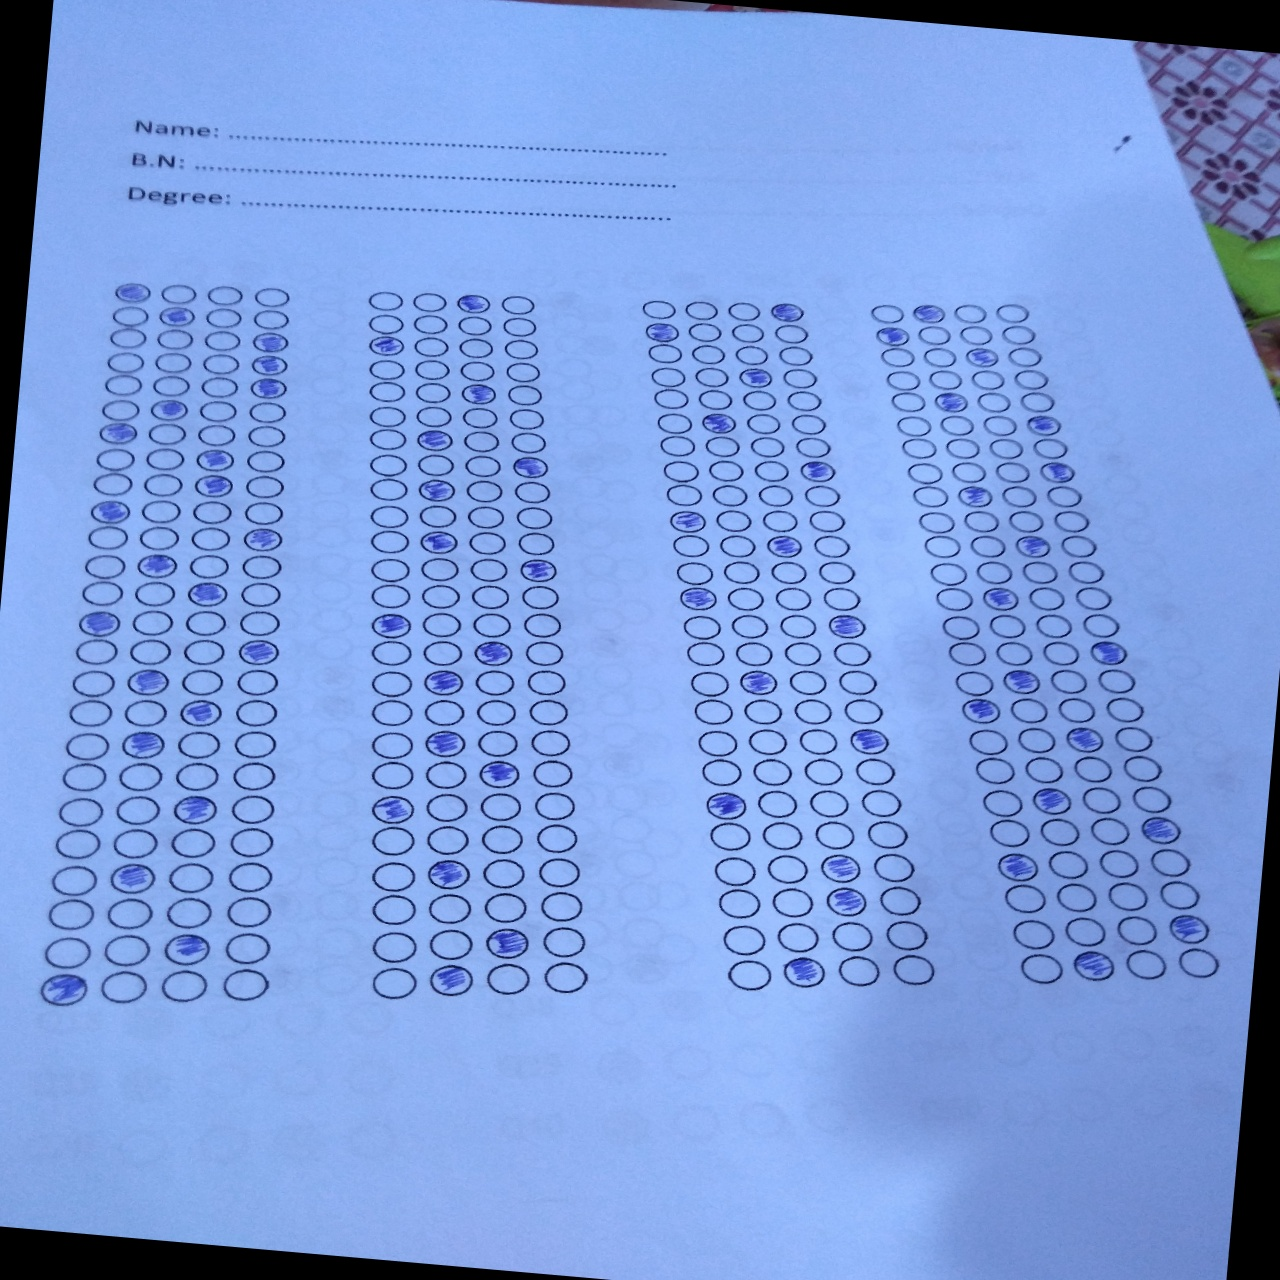not-c: (101, 930, 152, 971), (1122, 946, 1175, 986), (1062, 910, 1114, 949), (1009, 915, 1062, 954), (1114, 911, 1166, 949), (1012, 949, 1064, 988), (219, 965, 268, 1006), (47, 896, 97, 935), (999, 881, 1051, 919), (43, 930, 91, 971), (98, 965, 147, 1006), (166, 858, 215, 899), (1171, 948, 1223, 986), (159, 965, 207, 1005), (542, 959, 591, 996), (870, 847, 919, 885), (114, 758, 164, 795), (49, 862, 100, 898), (368, 822, 418, 858), (890, 951, 939, 987), (539, 888, 588, 925), (483, 888, 532, 925), (369, 891, 418, 927), (427, 925, 476, 961), (767, 884, 816, 920), (763, 852, 812, 888), (709, 852, 758, 888), (720, 920, 769, 956), (806, 785, 856, 822), (852, 754, 901, 790), (714, 887, 764, 922), (229, 790, 275, 828), (169, 823, 217, 859), (427, 890, 475, 926), (485, 959, 533, 995), (481, 855, 529, 891), (477, 821, 525, 857), (372, 859, 420, 896), (370, 928, 418, 965), (370, 965, 418, 1001), (835, 953, 883, 989), (772, 917, 821, 953), (830, 920, 878, 956), (813, 813, 862, 850), (532, 819, 581, 855), (533, 853, 583, 888), (539, 924, 588, 959), (883, 915, 932, 951), (855, 785, 904, 821), (115, 791, 162, 828), (224, 930, 271, 966), (107, 896, 154, 932), (55, 824, 102, 860), (57, 794, 104, 830), (226, 860, 274, 896), (423, 821, 471, 856), (726, 956, 774, 992), (865, 818, 913, 853), (874, 883, 922, 918), (227, 891, 273, 927), (230, 824, 275, 860), (166, 894, 213, 930), (110, 828, 157, 863), (183, 607, 231, 641), (123, 695, 170, 729), (236, 606, 284, 639), (67, 697, 115, 730), (231, 758, 275, 794), (173, 758, 218, 794), (179, 665, 224, 700), (73, 634, 118, 668), (59, 760, 105, 792), (64, 730, 111, 763), (178, 635, 223, 669), (994, 636, 1039, 670), (475, 727, 520, 760), (129, 607, 178, 638), (176, 729, 222, 762), (985, 610, 1030, 642), (474, 697, 518, 730), (531, 788, 576, 821), (231, 727, 275, 760), (367, 636, 411, 669), (72, 665, 116, 697), (836, 665, 880, 697), (798, 726, 843, 758), (1055, 693, 1099, 726), (1099, 692, 1144, 724), (1040, 638, 1084, 670), (1034, 611, 1078, 644), (238, 578, 284, 610), (740, 697, 785, 729), (747, 727, 792, 758), (418, 610, 464, 641), (128, 636, 173, 668), (985, 817, 1030, 849), (842, 695, 887, 727), (1006, 695, 1051, 727), (696, 727, 740, 760), (778, 611, 822, 644), (1044, 847, 1088, 880), (1070, 754, 1114, 787), (523, 667, 567, 699), (527, 728, 572, 760), (742, 728, 787, 760), (733, 639, 777, 670), (726, 611, 770, 642), (707, 821, 751, 852), (687, 668, 731, 700), (422, 757, 467, 789), (422, 697, 467, 729), (758, 819, 803, 851), (749, 755, 794, 787), (421, 636, 465, 668), (962, 726, 1007, 757), (799, 755, 844, 787), (855, 756, 899, 788), (979, 785, 1023, 817), (972, 753, 1016, 784), (1156, 878, 1200, 910), (1055, 880, 1099, 912), (1039, 816, 1083, 847), (1020, 755, 1064, 787), (1014, 722, 1058, 754), (949, 666, 994, 697), (942, 638, 987, 669), (932, 583, 976, 614), (926, 556, 971, 587), (1046, 666, 1090, 697), (1080, 783, 1124, 815), (1060, 554, 1104, 586), (817, 581, 862, 613), (817, 554, 862, 586), (1024, 584, 1069, 615), (467, 610, 515, 639), (1107, 880, 1152, 911), (532, 758, 576, 790), (525, 696, 568, 728), (685, 640, 728, 672), (771, 583, 815, 614), (757, 789, 801, 821), (233, 697, 277, 729), (234, 666, 278, 697), (369, 760, 413, 791), (369, 726, 413, 757), (937, 612, 980, 644), (1092, 663, 1136, 695), (1148, 845, 1191, 877), (1077, 608, 1121, 640), (472, 668, 517, 699), (791, 696, 836, 727), (1096, 847, 1141, 878), (1085, 813, 1130, 844), (1130, 784, 1175, 815), (1122, 753, 1166, 783), (1070, 581, 1115, 612), (134, 576, 175, 608), (467, 581, 510, 612), (696, 757, 740, 788), (692, 695, 735, 726), (423, 791, 467, 822), (481, 791, 524, 822), (418, 581, 462, 612), (369, 697, 413, 728), (369, 669, 413, 700), (831, 635, 874, 666), (1112, 723, 1156, 754), (418, 556, 463, 585), (965, 530, 1008, 559), (1060, 529, 1099, 560), (101, 372, 145, 400), (141, 471, 185, 499), (913, 511, 954, 542), (190, 524, 232, 553), (411, 333, 455, 361), (367, 401, 410, 429), (188, 552, 231, 580), (144, 421, 188, 449), (147, 374, 190, 402), (82, 579, 125, 607), (83, 552, 127, 580), (1017, 556, 1057, 586), (1032, 433, 1071, 463), (1046, 482, 1085, 512), (1053, 508, 1092, 538), (522, 639, 563, 668), (520, 610, 561, 639), (413, 403, 457, 430), (367, 527, 411, 554), (367, 503, 411, 530), (251, 281, 293, 309), (204, 281, 246, 309), (243, 447, 285, 475), (241, 553, 284, 581), (366, 356, 408, 384), (411, 379, 454, 407), (369, 554, 411, 583), (365, 380, 407, 408), (86, 523, 128, 551), (105, 325, 148, 353), (680, 613, 722, 641), (411, 358, 455, 384), (368, 476, 411, 503), (93, 470, 136, 497), (95, 444, 138, 471), (105, 349, 149, 376), (137, 498, 181, 525), (787, 667, 826, 696), (782, 639, 822, 668), (973, 554, 1013, 584), (726, 295, 767, 324), (155, 324, 196, 352), (158, 280, 199, 308), (468, 556, 509, 584), (408, 312, 452, 338), (241, 474, 284, 501), (246, 400, 288, 427), (640, 293, 682, 320), (108, 302, 150, 329), (407, 287, 449, 314), (365, 286, 407, 313), (197, 374, 239, 401), (372, 583, 414, 610), (369, 452, 411, 479), (145, 445, 188, 472), (1007, 508, 1046, 537), (192, 498, 232, 526), (893, 411, 933, 440), (367, 424, 410, 450), (137, 526, 181, 552), (200, 352, 241, 379), (241, 501, 282, 527), (243, 422, 284, 449), (366, 309, 407, 336), (501, 290, 542, 316), (200, 327, 241, 354), (202, 306, 243, 333), (649, 384, 690, 411), (806, 508, 847, 535), (799, 481, 840, 508), (937, 410, 978, 437), (415, 452, 457, 478), (97, 396, 139, 422), (646, 340, 686, 367), (459, 358, 499, 384), (994, 457, 1034, 484), (949, 459, 989, 486), (1012, 365, 1051, 392), (518, 584, 559, 610), (508, 406, 549, 431), (464, 478, 505, 504), (647, 365, 688, 390), (468, 529, 509, 554), (663, 482, 704, 508), (690, 365, 731, 390), (751, 457, 792, 483), (701, 434, 742, 459), (783, 389, 824, 415), (777, 343, 818, 369), (976, 390, 1017, 416), (998, 483, 1039, 509), (1017, 387, 1058, 413), (998, 320, 1039, 346), (415, 504, 456, 530), (154, 350, 192, 377), (511, 481, 551, 506), (701, 434, 741, 459), (694, 386, 734, 411), (670, 532, 710, 558), (748, 434, 788, 459), (726, 585, 765, 611), (717, 533, 757, 559), (714, 509, 754, 535), (707, 483, 747, 509), (706, 458, 745, 484), (782, 365, 822, 390), (910, 483, 949, 509), (904, 458, 944, 484), (898, 434, 938, 459), (883, 369, 922, 395), (979, 413, 1019, 438), (987, 435, 1027, 461), (993, 300, 1033, 326), (498, 336, 542, 360), (502, 360, 543, 384), (461, 404, 502, 429), (515, 530, 556, 554), (506, 384, 547, 409), (468, 505, 509, 530), (464, 452, 505, 477), (659, 457, 700, 482), (758, 508, 799, 532), (721, 559, 762, 584), (942, 435, 983, 459), (961, 510, 1000, 536), (681, 297, 721, 321), (458, 335, 498, 360), (455, 313, 495, 338), (513, 505, 553, 530), (510, 428, 550, 452), (461, 429, 501, 454), (658, 433, 697, 457), (655, 410, 695, 435), (674, 561, 714, 586), (757, 483, 797, 508), (742, 410, 782, 435), (742, 388, 782, 413), (792, 435, 832, 459), (788, 410, 828, 435), (812, 532, 852, 557), (922, 533, 962, 558), (887, 389, 927, 414), (202, 352, 239, 377), (198, 399, 236, 424), (770, 559, 809, 584), (251, 307, 290, 332), (1006, 345, 1046, 368), (501, 315, 539, 339), (968, 368, 1007, 392), (925, 368, 965, 390), (197, 423, 234, 447), (685, 320, 722, 343), (728, 320, 765, 343), (878, 345, 915, 368), (952, 301, 990, 324), (921, 346, 960, 368), (956, 322, 996, 343), (772, 324, 810, 346), (867, 302, 905, 325), (915, 324, 954, 345), (734, 342, 770, 365), (689, 343, 726, 366)
taken-c: (38, 971, 94, 1010), (425, 958, 476, 1000), (159, 930, 215, 967), (777, 953, 830, 992), (1070, 947, 1122, 986), (821, 883, 873, 920), (1167, 908, 1218, 947), (483, 924, 535, 961), (992, 849, 1041, 885), (108, 862, 159, 896), (120, 666, 175, 697), (845, 724, 894, 760), (172, 791, 218, 826), (819, 852, 867, 885), (428, 857, 474, 890), (1061, 723, 1107, 756), (366, 610, 413, 641), (234, 636, 281, 668), (1027, 785, 1074, 817), (998, 666, 1044, 697), (1138, 813, 1185, 845), (120, 728, 165, 760), (1085, 636, 1131, 668), (821, 612, 869, 641), (135, 551, 181, 581), (369, 794, 415, 824), (703, 789, 749, 819), (979, 583, 1024, 613), (472, 639, 517, 669), (88, 496, 132, 526), (424, 728, 469, 758), (452, 287, 498, 316), (478, 760, 524, 789), (179, 697, 225, 727), (961, 694, 1003, 726), (77, 607, 121, 638), (144, 395, 191, 423), (152, 302, 199, 331), (423, 668, 468, 697), (186, 579, 229, 608), (110, 279, 156, 306), (191, 445, 234, 474), (510, 454, 554, 481), (247, 375, 290, 403), (736, 669, 779, 696), (516, 557, 559, 584), (954, 483, 998, 510), (797, 458, 838, 486), (248, 350, 290, 379), (93, 420, 137, 445), (642, 318, 685, 345), (767, 298, 809, 325), (251, 328, 293, 355), (697, 409, 740, 436), (416, 477, 458, 504), (735, 365, 777, 392), (195, 474, 237, 501), (678, 586, 720, 613), (668, 508, 710, 535), (1014, 532, 1053, 561), (366, 333, 409, 359), (1035, 458, 1078, 484), (418, 529, 459, 556), (964, 342, 1005, 369), (764, 535, 806, 560), (240, 525, 282, 551), (931, 389, 973, 415), (413, 428, 456, 452), (1024, 413, 1067, 436), (459, 382, 499, 407), (908, 301, 949, 325), (871, 324, 912, 347)
